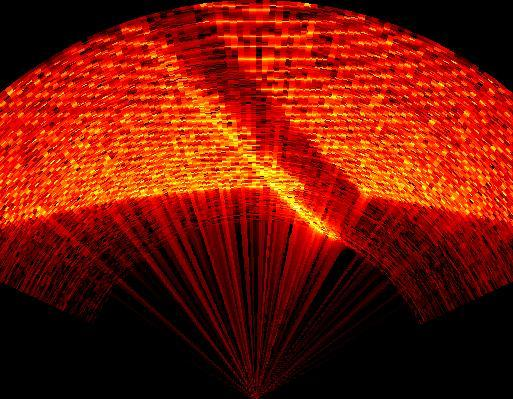pipe: (138, 4, 374, 242)
